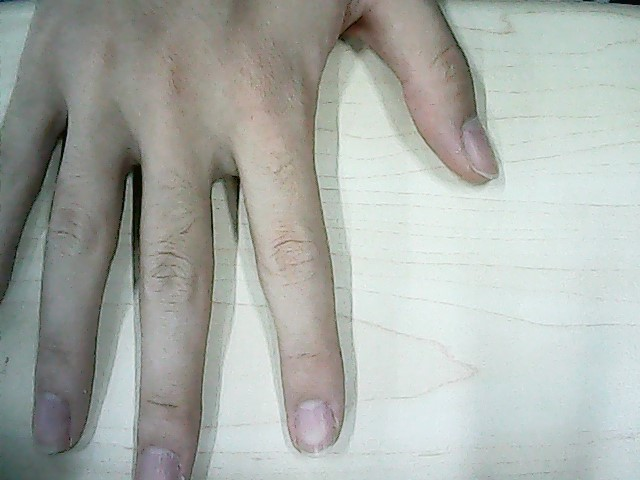nail: (455, 112, 504, 178), (292, 395, 339, 455), (30, 393, 73, 455), (136, 445, 182, 480)
